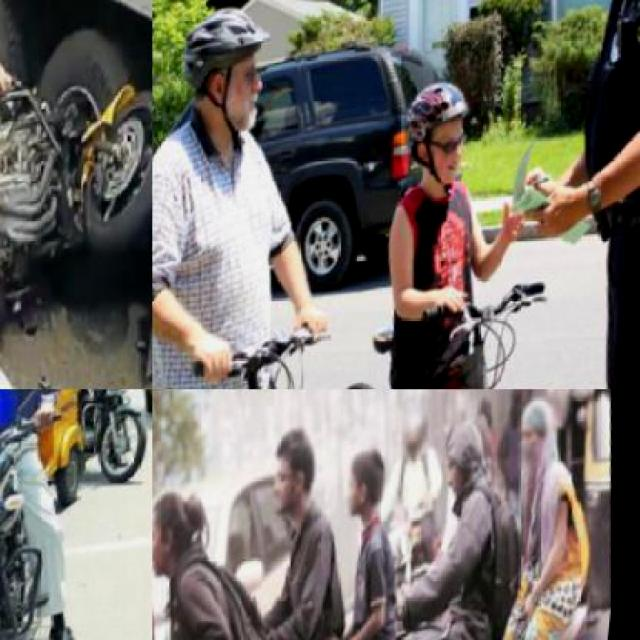With Helmet: (170, 4, 287, 154), (402, 78, 488, 208), (398, 406, 437, 466)
Without Helmet: (426, 408, 500, 523), (265, 407, 332, 528), (152, 489, 211, 583), (513, 399, 562, 481), (343, 454, 391, 529)
